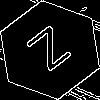Z: (25, 25, 81, 80)
